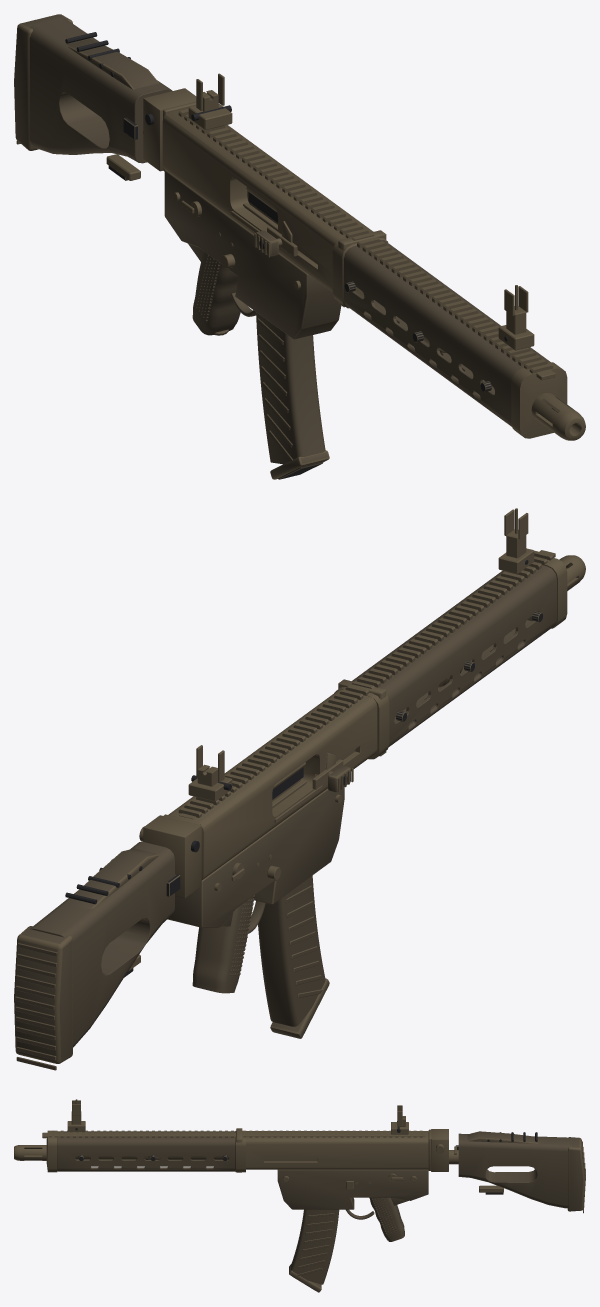
The model's file is SCAR.glb.
3 renders of one model, top to bottom at view 1: azimuth 30°, elevation 25°; view 2: azimuth 150°, elevation 25°; view 3: azimuth 270°, elevation 25°, orthographic. The views are drawn at different scales.
Parts seen in each view (by area): view 1: Body, Magazine, Bolt; view 2: Body, Magazine, Bolt; view 3: Body, Magazine.
Boxes of the visible parts, x1,y1,x2,y2 form: Body: (14,14,585,440); Magazine: (256,312,329,479); Bolt: (254,226,297,257); Body: (14,508,585,1070); Magazine: (258,875,329,1038); Bolt: (312,759,353,792); Body: (14,1099,585,1241); Magazine: (289,1209,339,1292).
Size of the model in its own units: 0.073 by 0.3492 by 0.9552.
